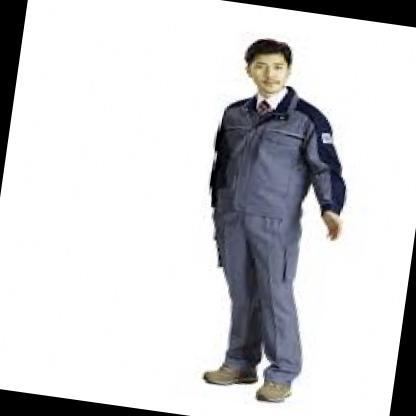safety-shoe: (195, 359, 255, 398), (259, 378, 310, 407)
